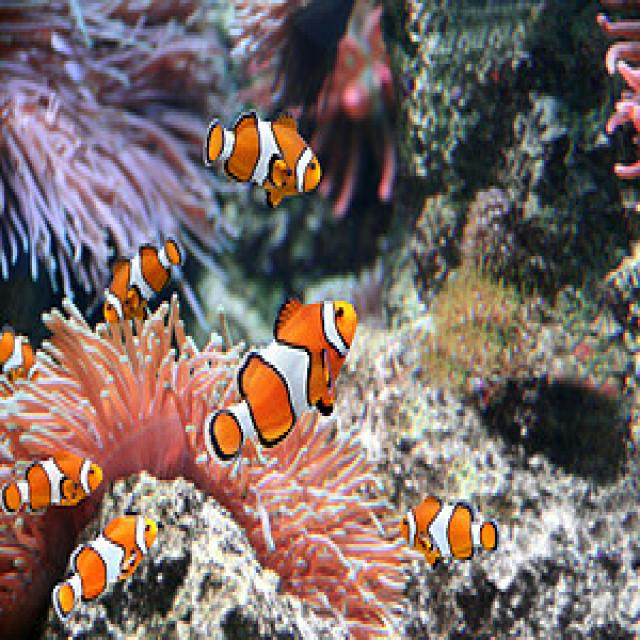ClownFish: (202, 294, 358, 462), (203, 108, 322, 203), (2, 437, 102, 520), (396, 486, 498, 564), (100, 238, 186, 320)
